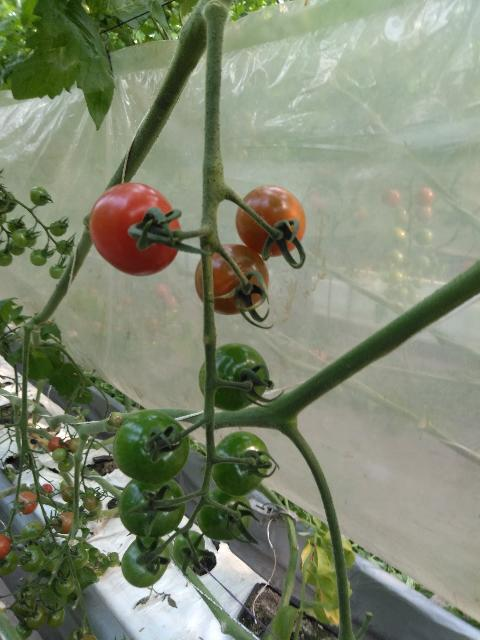l_fully_ripened: (89, 182, 181, 277), (0, 534, 11, 559), (48, 436, 64, 451)
l_green: (112, 410, 190, 485), (196, 343, 270, 413), (118, 478, 186, 539), (209, 430, 269, 496), (197, 487, 252, 542), (120, 537, 170, 589), (172, 530, 206, 567), (18, 545, 45, 573), (21, 520, 45, 543), (26, 605, 48, 630), (0, 550, 19, 576), (70, 545, 89, 568), (46, 605, 65, 628), (56, 574, 76, 595), (29, 186, 49, 206), (11, 229, 32, 248), (49, 219, 68, 237), (30, 249, 47, 267), (7, 217, 26, 233), (55, 239, 73, 255), (83, 495, 100, 511), (0, 248, 13, 267), (52, 447, 67, 462), (49, 265, 64, 279)
l_half_ripened: (194, 244, 269, 315), (235, 185, 306, 257), (13, 491, 38, 515), (53, 511, 74, 534), (61, 487, 73, 503)
